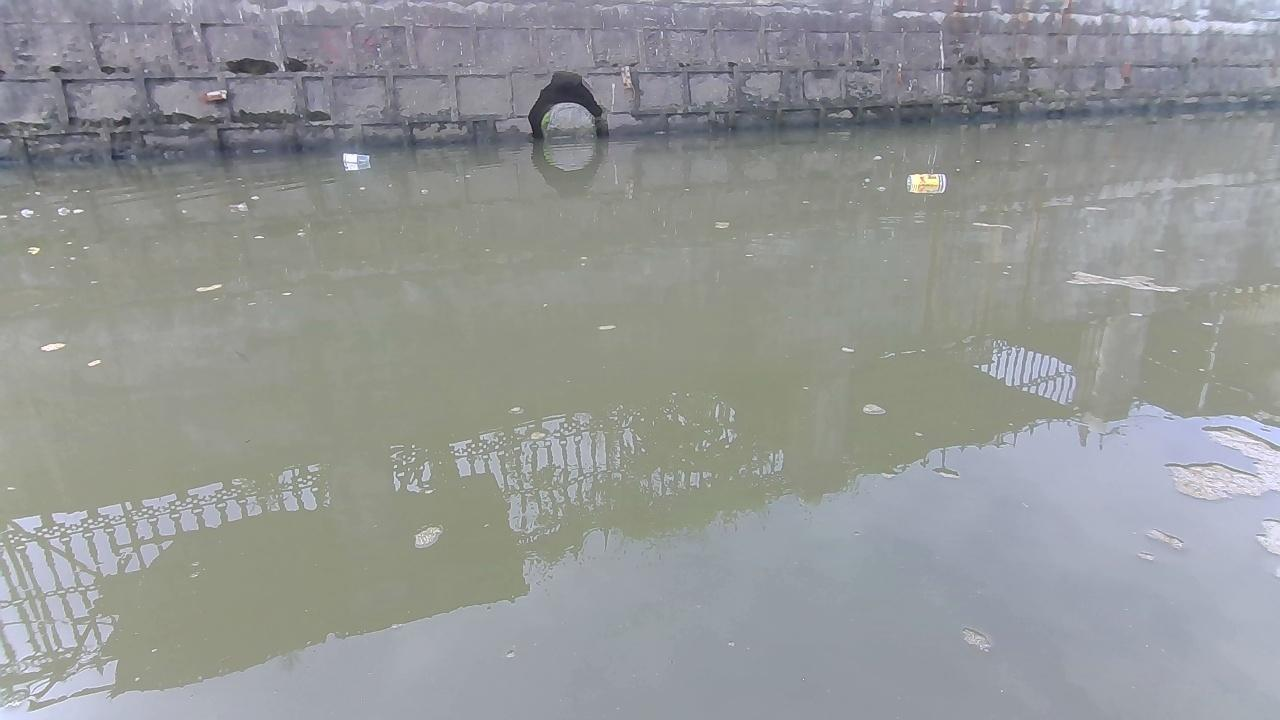bottle: (902, 171, 948, 192), (340, 150, 371, 167)
